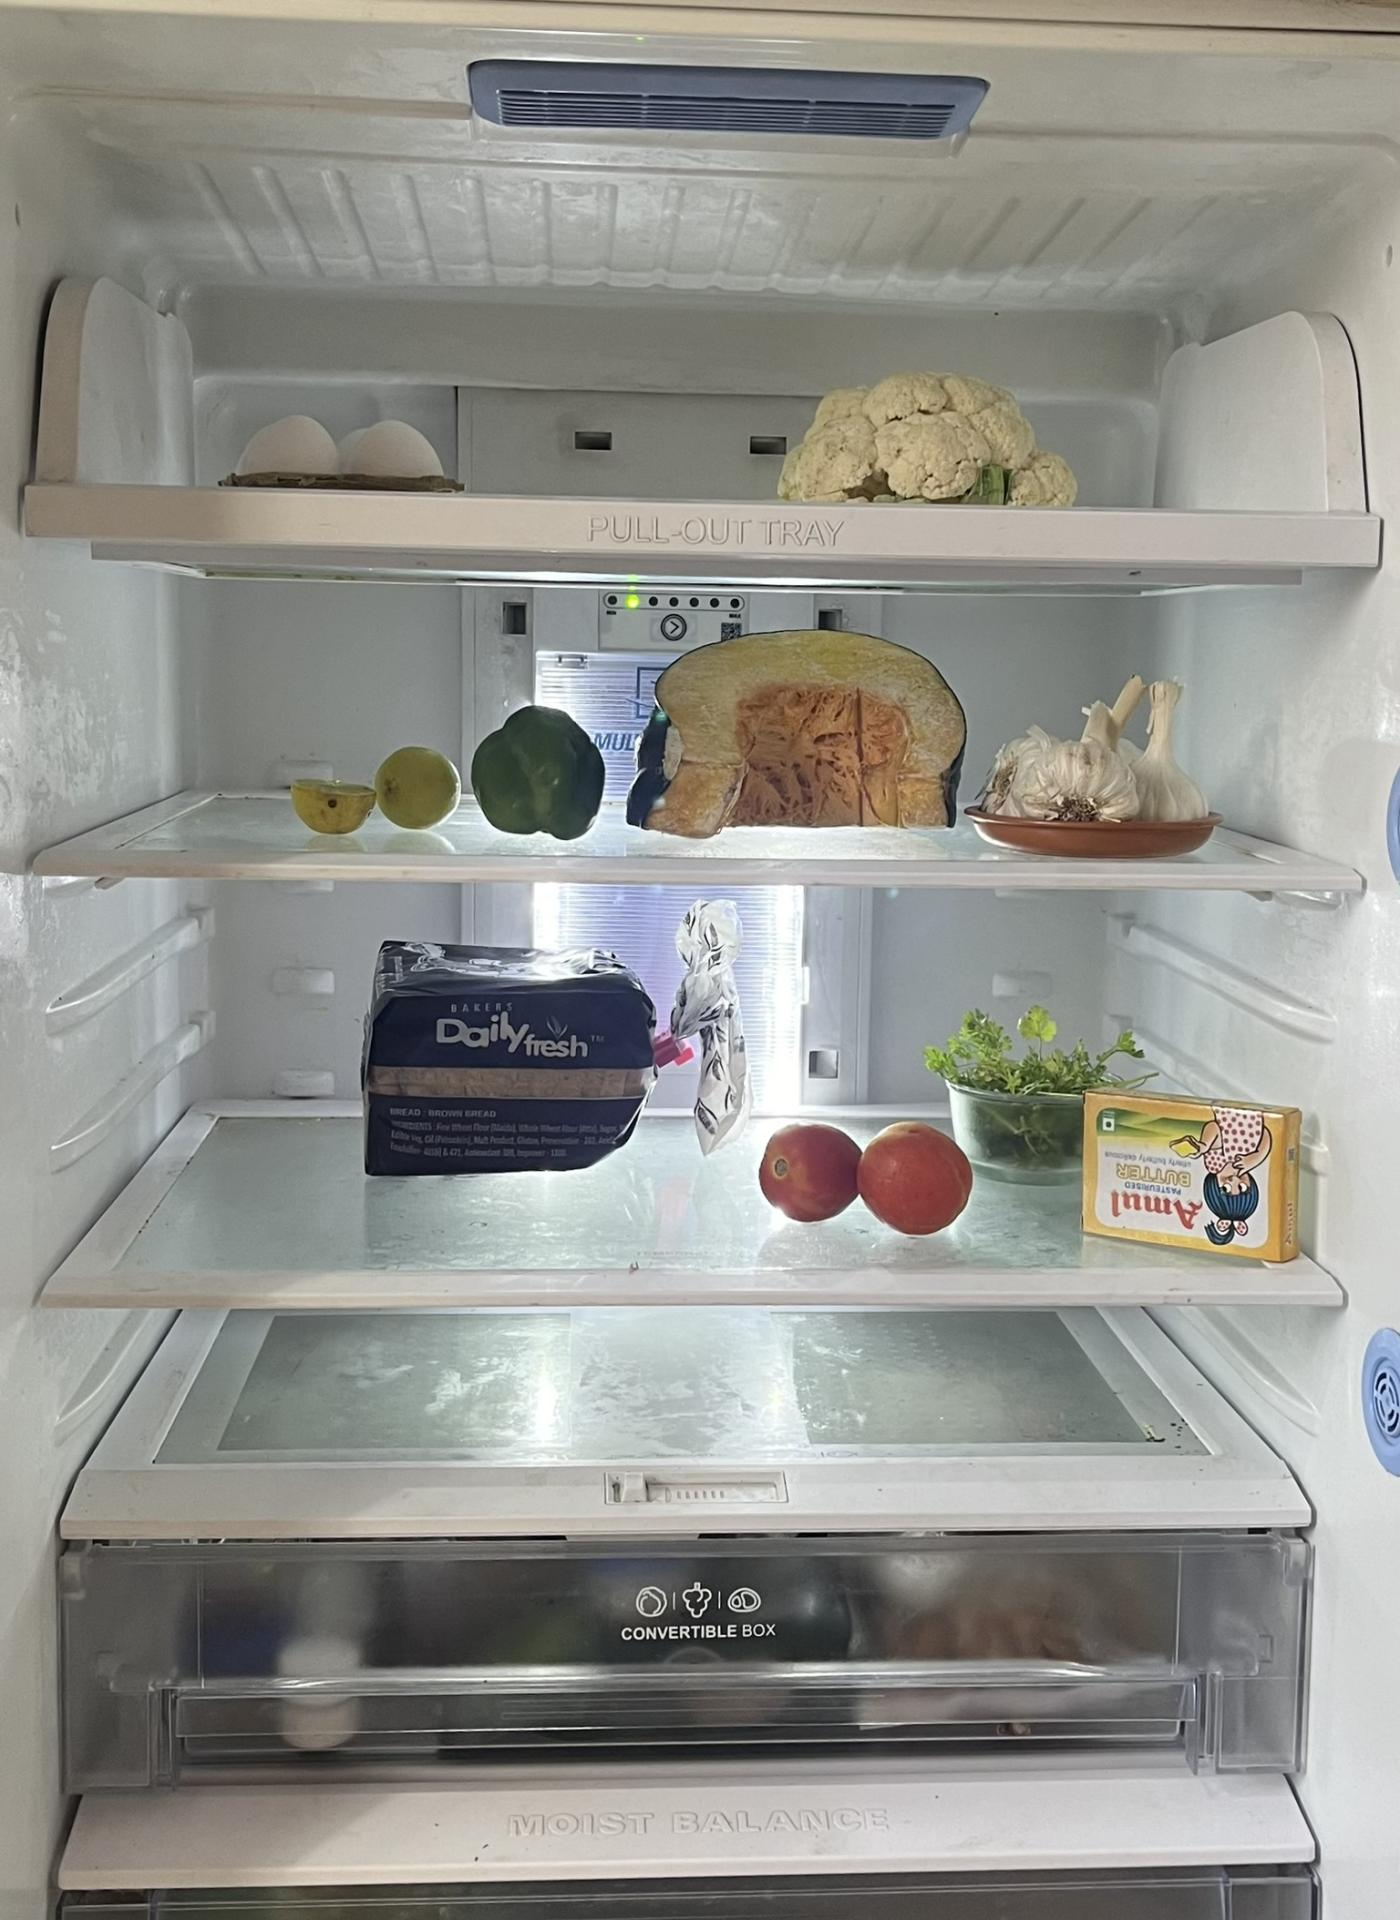bread: (361, 903, 741, 1172)
butter: (1078, 1091, 1309, 1266)
capsicum: (468, 698, 617, 841)
cauliflower: (771, 365, 1090, 510)
coriander: (920, 997, 1151, 1169)
egg: (219, 404, 459, 490)
garlic: (990, 665, 1221, 841)
lemon: (270, 738, 474, 844)
pumpkin: (623, 628, 972, 841)
tomato: (747, 1112, 984, 1234)
